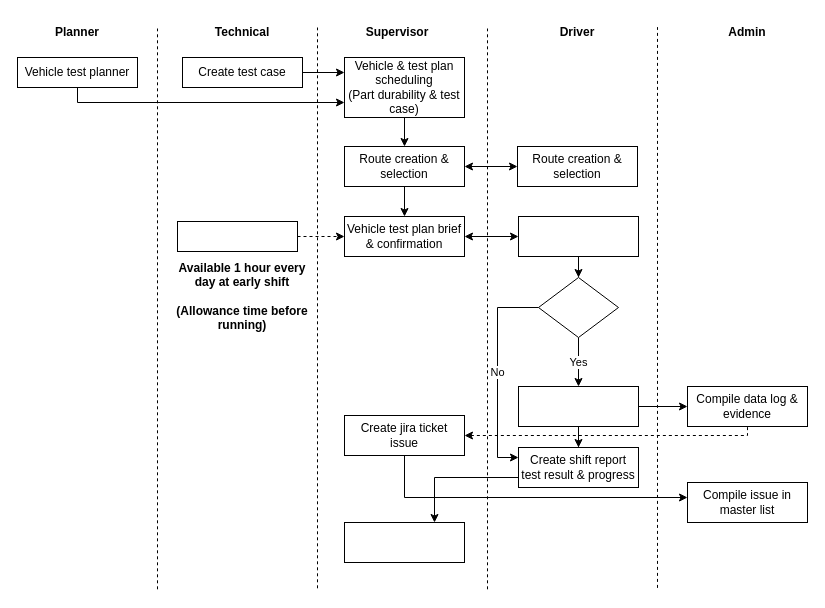
Image size: 825x608. Some labels were removed from this diagram. The centre of each missing label's shape, as x and y in pixels:
"Collect data log & evidence" goes at point (578, 406).
"Issue finding" goes at point (578, 307).
"Issues confirmation" goes at point (237, 236).
"Perform test plan (static & dynamic)" goes at point (578, 236).
"Summary shift report & submit via e-mail" goes at point (404, 542).
